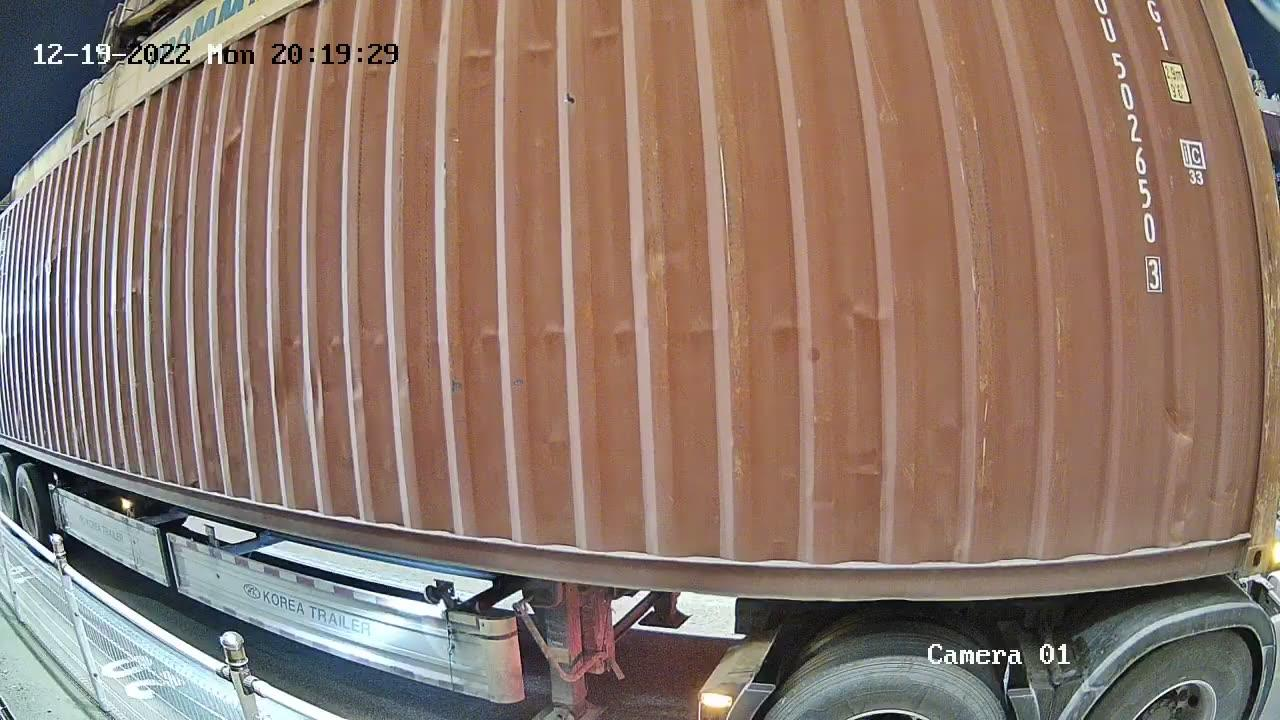Cone: (1202, 507, 1279, 575)
Tire: (766, 656, 1006, 714)
